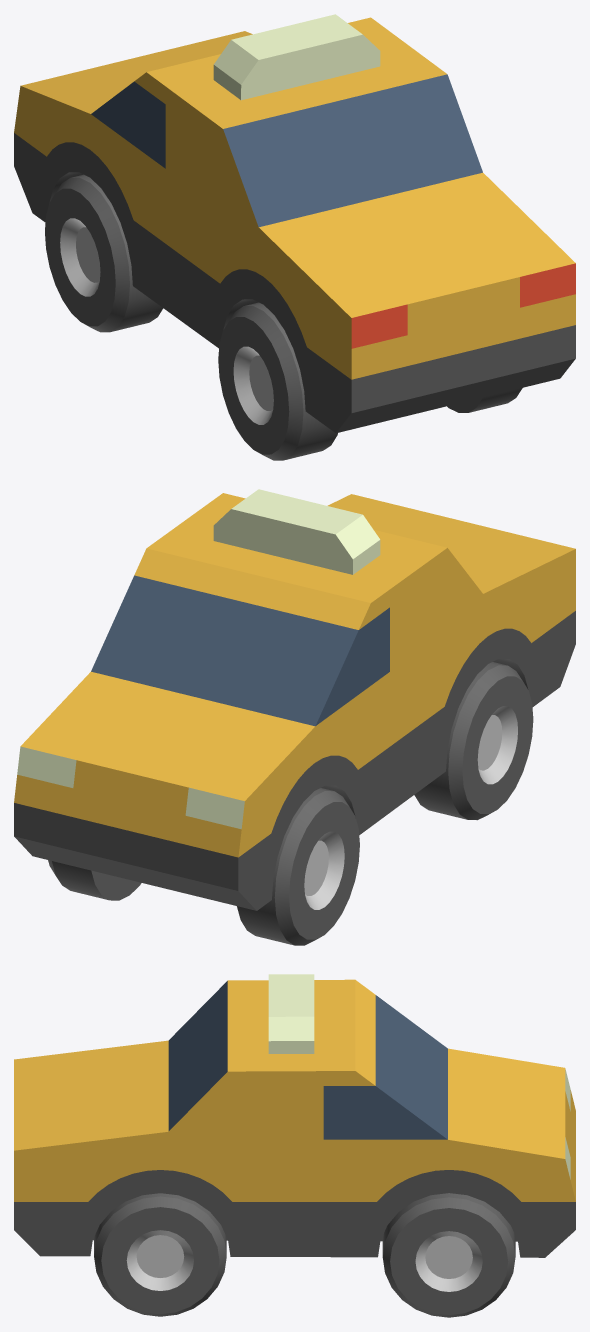
The model's file is carTaxi.fbx.
3 renders of one model, top to bottom at view 1: azimuth 30°, elevation 25°; view 2: azimuth 150°, elevation 25°; view 3: azimuth 270°, elevation 25°, orthographic. The views are drawn at different scales.
Parts seen in each view (by area): view 1: body 9, wheelBackLeft 9, wheelFrontLeft 9, wheelBackRight 9; view 2: body 9, wheelFrontLeft 9, wheelBackLeft 9, wheelFrontRight 9; view 3: body 9, wheelFrontRight 9, wheelBackRight 9.
Part boxes in pixels (x1,y1,x2,y2): body 9: (14,14,575,433); wheelBackLeft 9: (218,302,337,460); wheelFrontLeft 9: (45,174,163,332); wheelBackRight 9: (447,388,522,412); body 9: (14,489,575,910); wheelFrontLeft 9: (237,788,359,945); wheelBackLeft 9: (414,662,533,820); wheelFrontRight 9: (48,860,141,900); body 9: (14,974,575,1257); wheelFrontRight 9: (382,1193,515,1317); wheelBackRight 9: (94,1193,226,1316).
Size of the model in its own units: 4.95 by 6.46 by 11.85.
